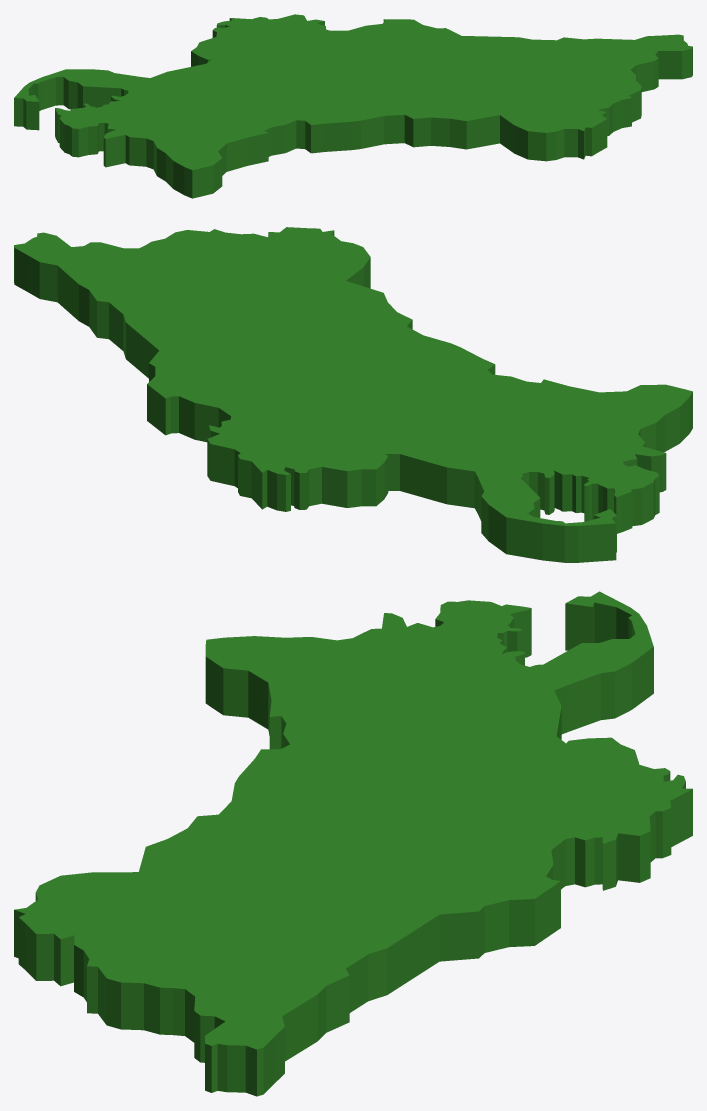
File: Turkmenistan.fbx
The picture shows the model from 3 angles, top to bottom: view 1: azimuth 30°, elevation 25°; view 2: azimuth 150°, elevation 25°; view 3: azimuth 270°, elevation 25°; orthographic projection. The views are drawn at different scales.
Parts seen in each view (by area): view 1: Turkmenistan; view 2: Turkmenistan; view 3: Turkmenistan.
Boxes of the visible parts, bbox=[...] form: Turkmenistan: bbox=[14, 14, 692, 198]; Turkmenistan: bbox=[14, 227, 692, 562]; Turkmenistan: bbox=[14, 591, 692, 1096].
Size of the model in its own units: 27.37 by 1.31 by 17.14.
